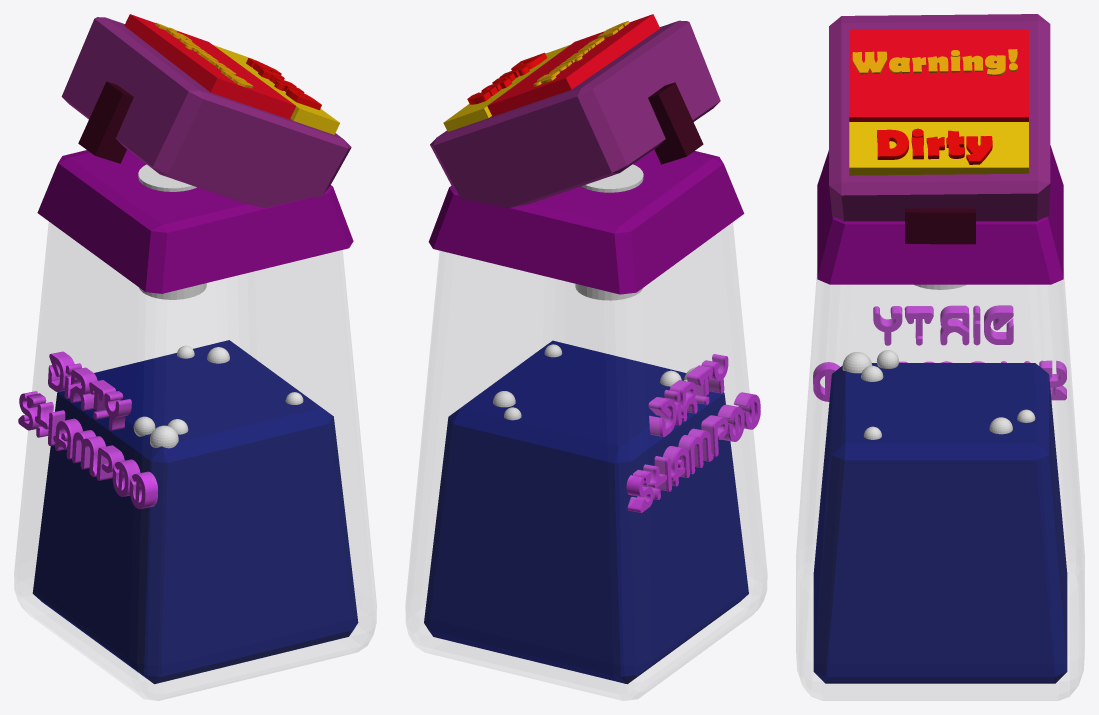
Rendered from dirty_shampoo.fbx.
3 renders of one model, left to right at view 1: azimuth 30°, elevation 25°; view 2: azimuth 150°, elevation 25°; view 3: azimuth 270°, elevation 25°, orthographic. The views are drawn at different scales.
Visible parts, largest first — view 1: Cube.004, Cube, Cube.001, Cube.002, Text, Cube.005, Cube.003, Cube.006, Cylinder, Text.002, Text.001; view 2: Cube.004, Cube, Cube.001, Cube.002, Text, Cube.005, Cube.003, Cylinder, Cube.006, Text.002, Text.001; view 3: Cube.004, Cube, Cube.002, Cube.001, Cube.005, Cube.006, Text, Text.002, Text.001, Cube.007, Sphere.
Part boxes in pixels (x1=…): Cube.004: x1=32, y1=340, x2=358, y2=684; Cube: x1=14, y1=222, x2=376, y2=700; Cube.001: x1=37, y1=149, x2=353, y2=293; Cube.002: x1=61, y1=17, x2=351, y2=207; Text: x1=18, y1=351, x2=157, y2=509; Cube.005: x1=124, y1=14, x2=295, y2=119; Cube.003: x1=78, y1=81, x2=133, y2=163; Cube.006: x1=213, y1=45, x2=339, y2=134; Cylinder: x1=138, y1=164, x2=206, y2=299; Text.002: x1=246, y1=58, x2=321, y2=110; Text.001: x1=155, y1=22, x2=253, y2=88; Cube.004: x1=424, y1=340, x2=748, y2=684; Cube: x1=405, y1=223, x2=767, y2=700; Cube.001: x1=428, y1=149, x2=744, y2=294; Cube.002: x1=430, y1=20, x2=720, y2=208; Text: x1=626, y1=354, x2=760, y2=512; Cube.005: x1=487, y1=14, x2=660, y2=116; Cube.003: x1=648, y1=82, x2=703, y2=164; Cylinder: x1=575, y1=164, x2=643, y2=300; Cube.006: x1=443, y1=45, x2=569, y2=131; Text.002: x1=467, y1=52, x2=547, y2=104; Text.001: x1=533, y1=21, x2=629, y2=86; Cube.004: x1=813, y1=363, x2=1067, y2=683; Cube: x1=796, y1=278, x2=1084, y2=700; Cube.002: x1=829, y1=14, x2=1050, y2=221; Cube.001: x1=817, y1=145, x2=1063, y2=284; Cube.005: x1=849, y1=29, x2=1028, y2=121; Cube.006: x1=849, y1=122, x2=1028, y2=175; Text: x1=813, y1=305, x2=1066, y2=401; Text.002: x1=877, y1=128, x2=992, y2=164; Text.001: x1=852, y1=49, x2=1017, y2=75; Cube.007: x1=905, y1=208, x2=975, y2=244; Sphere: x1=842, y1=352, x2=871, y2=373.
Size of the model in its own units: 196 by 455 by 196.
